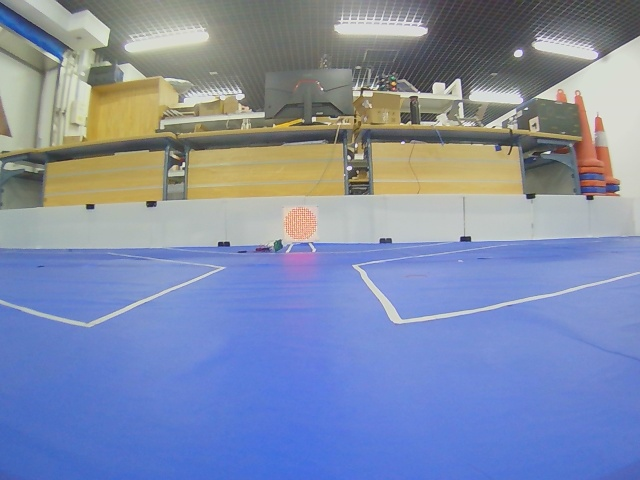red: (284, 206, 317, 242)
